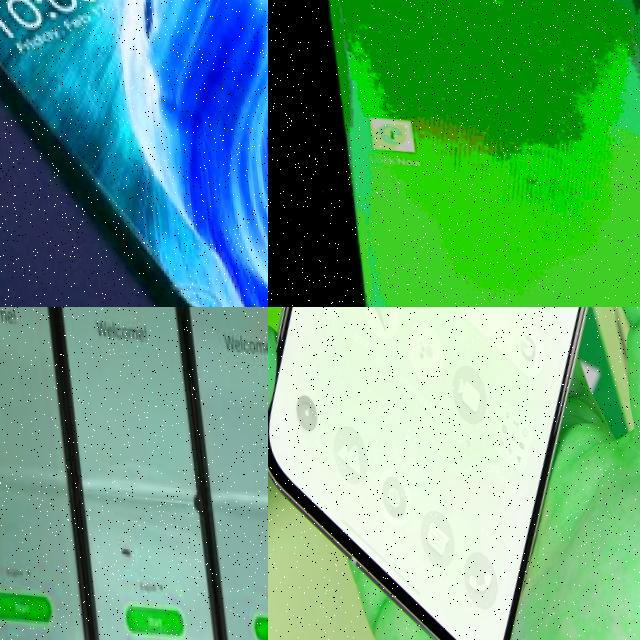dead pixel: (172, 471, 204, 517), (108, 523, 130, 568)
